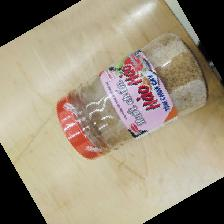Hao_hao: (55, 31, 209, 160)
